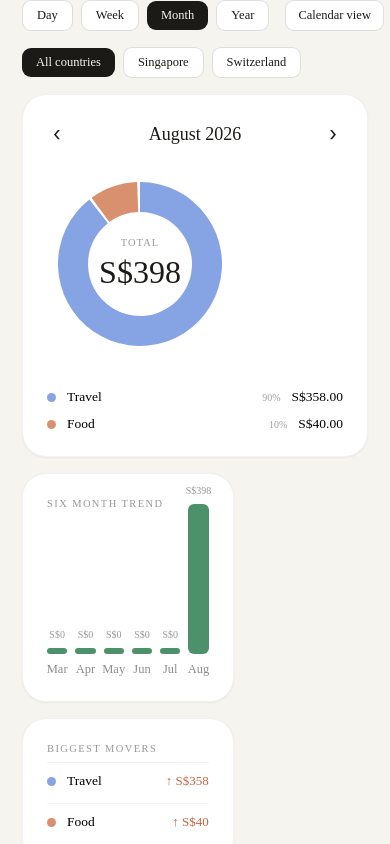
it: selecting a country filter recomputes the total instead of using the unfiltered backend summary
Expected: the text with test id "donut-total" reads "S$398", [99, 254, 181, 290]
What coordinates should you click on to do the following:
click the element with test id "sum-country-Switzerland"
I would click on:
 (256, 62)
Its box is [212, 47, 301, 78].
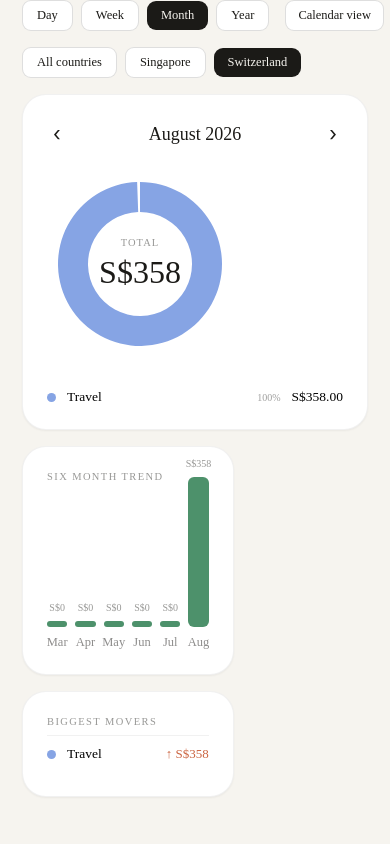
Now the text with test id "donut-total" reads "S$358", box [99, 254, 181, 290]
